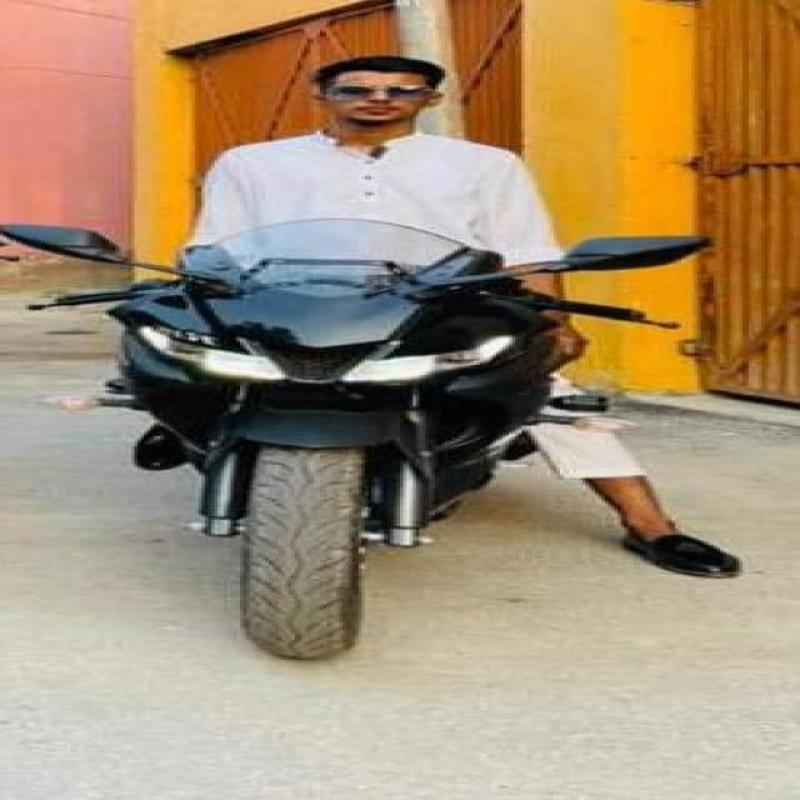nohelmet: (277, 36, 461, 158)
